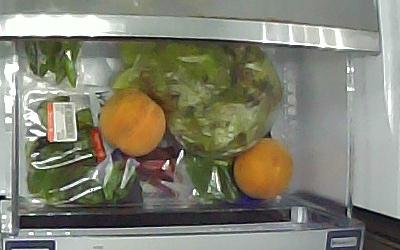peach: (100, 88, 165, 158), (233, 137, 295, 199)
